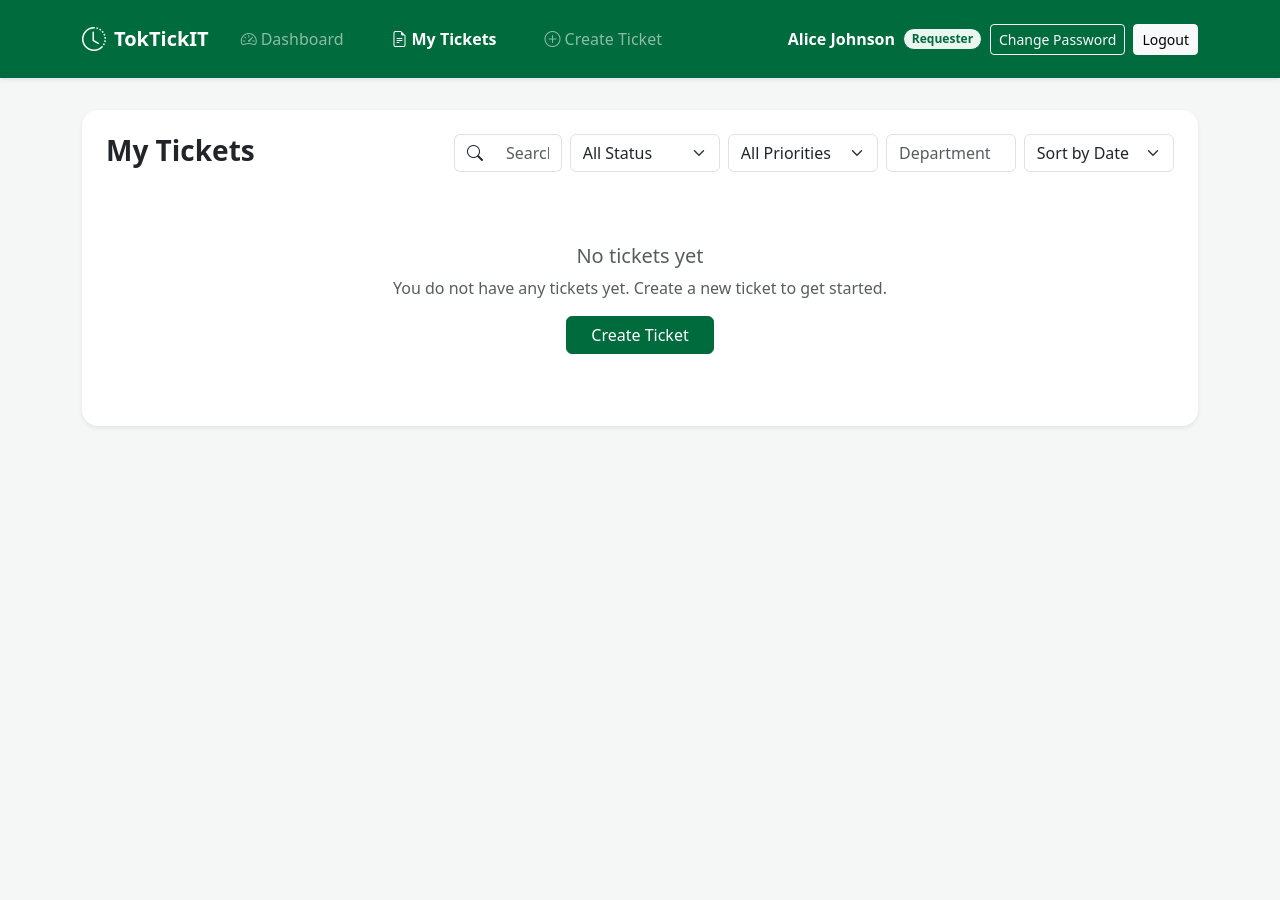
App › navigates to the Create Ticket view
Check: the heading "My Tickets" is shown, box [106,134,255,168]
Click the link "Create Ticket" at coordinates (603, 39), box [536,19,670,59]
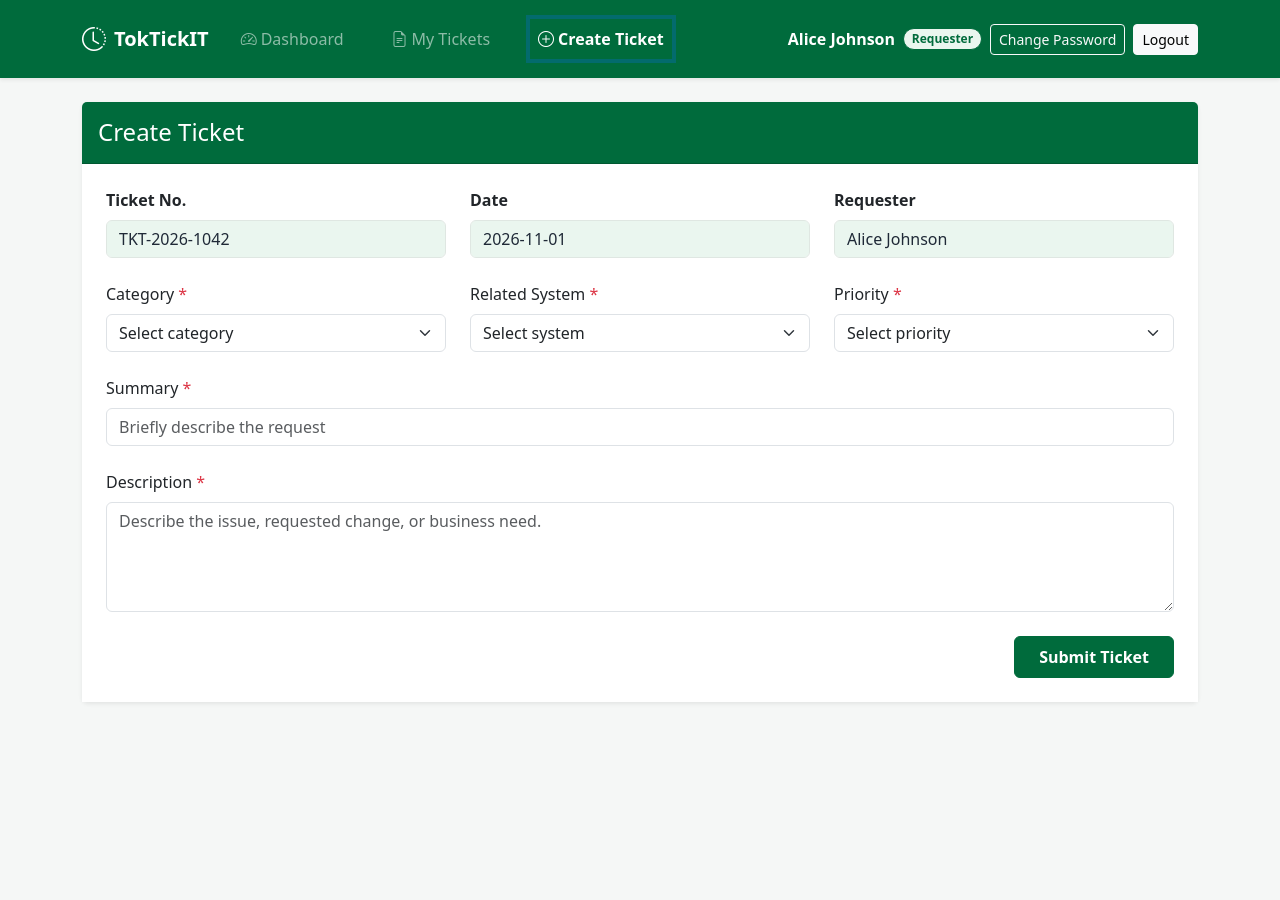
Check: the heading "Create Ticket" is shown, box [98,115,244,148]
Check: the button "Submit Ticket" is shown, box [1014,636,1174,678]
